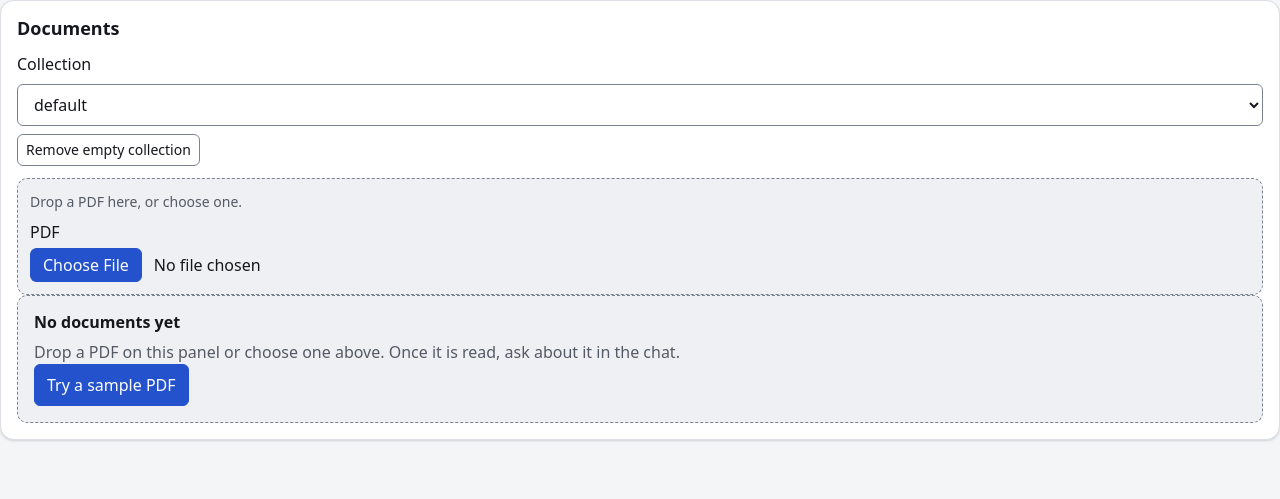
DocumentsPanel › sample PDF › says so, and uploads nothing, when the sample cannot be fetched
The width and height of the screenshot is (1280, 499).
Click the button "Try a sample PDF": (111, 384) [34, 364, 189, 406]
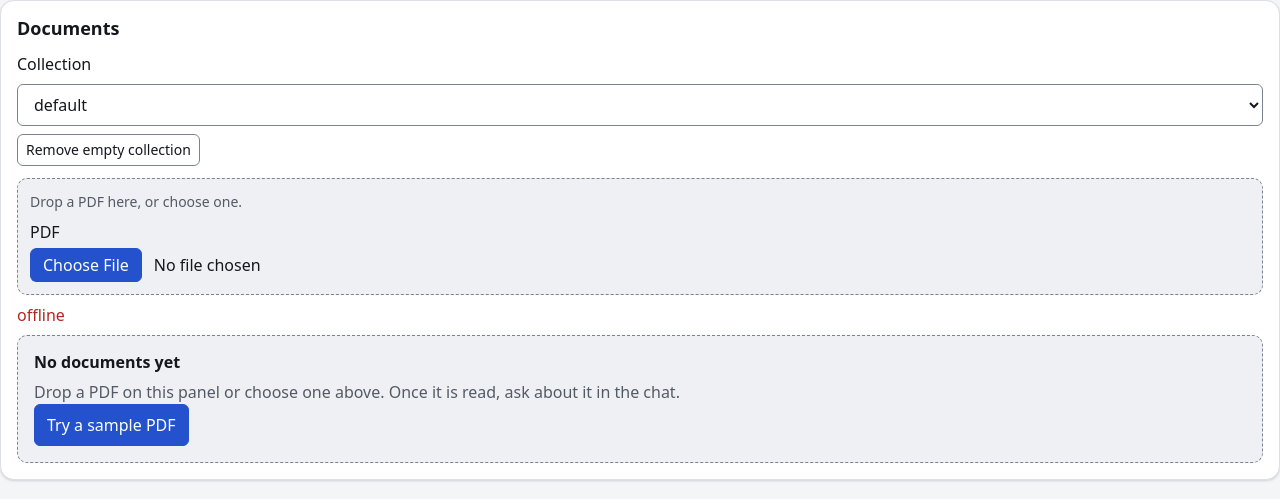
expect the message reads "offline": met, box [17, 304, 65, 326]
